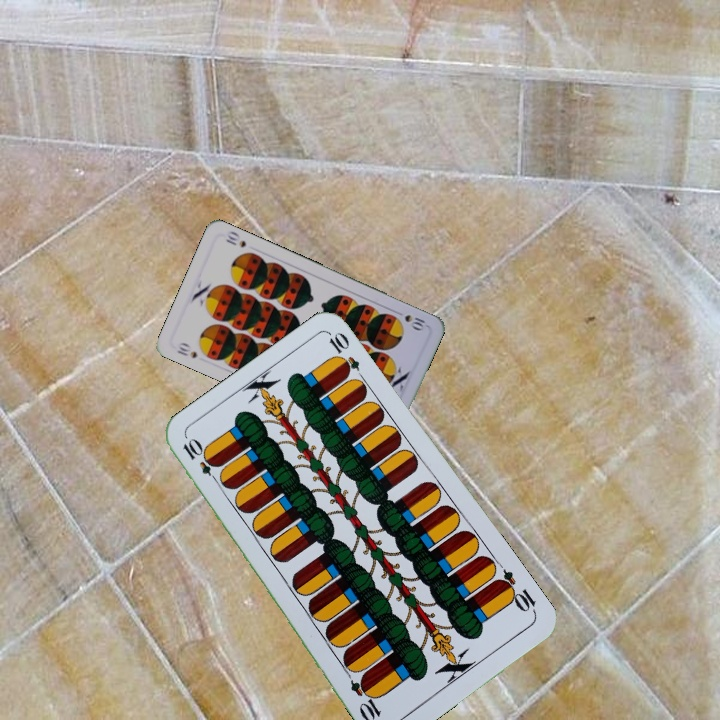E10: (491, 565, 539, 617), (178, 435, 224, 487)
S10: (391, 307, 429, 333), (173, 343, 200, 361)
